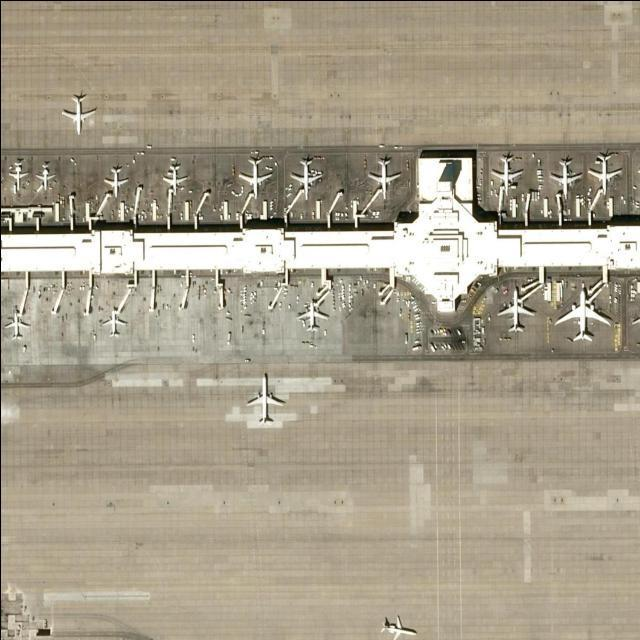Aircraft: (552, 287, 612, 342), (246, 370, 286, 426), (496, 286, 535, 336), (59, 89, 98, 133), (586, 151, 624, 193), (236, 153, 272, 196), (288, 155, 324, 197), (366, 154, 402, 195), (295, 298, 329, 336), (490, 153, 522, 193), (377, 611, 421, 639), (549, 156, 581, 194), (160, 160, 188, 194), (98, 306, 127, 338), (6, 309, 30, 343), (104, 164, 129, 194), (35, 160, 58, 190), (7, 159, 29, 189)
